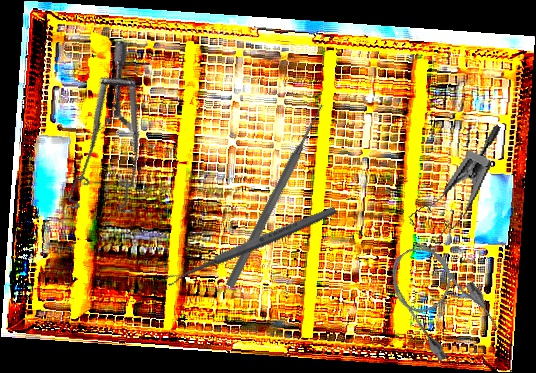Cannula: (376, 229, 504, 368)
Pusher: (223, 101, 329, 290)
Speculum: (18, 37, 184, 236), (403, 109, 503, 253)
Surgical Spoon: (164, 204, 338, 287)
